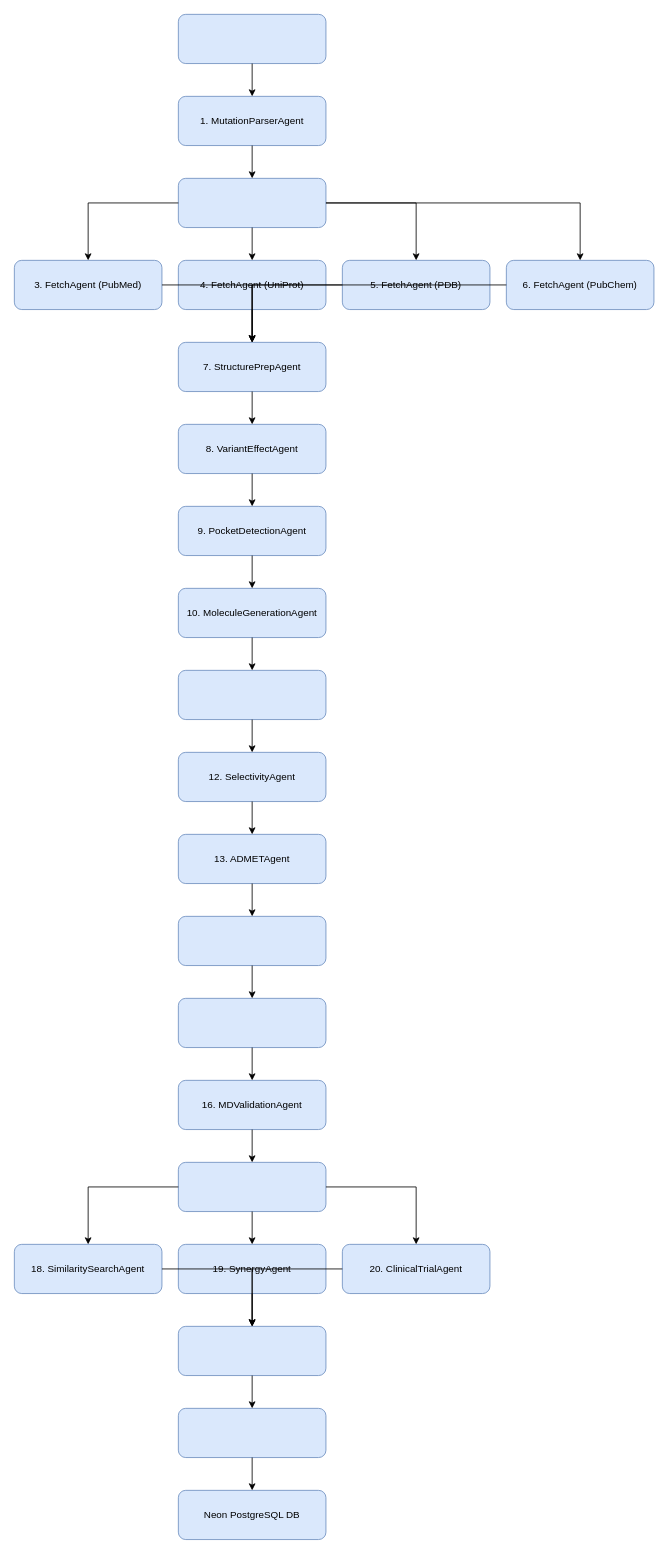
Image size: 668x1554. Some labels were removed from this diagram. The shapes that lost their labels are listed below. From the top down, each one's centre as x and y in pixels, then its label:
At (252,39): "User Query: EGFR T790M".
At (252,203): "2. PlannerAgent".
At (252,695): "11. DockingAgent".
At (252,941): "14. LeadOptimizationAgent".
At (252,1023): "15. GNNAffinityAgent".
At (252,1187): "17. ResistanceAgent".
At (252,1351): "21. SynthesisAgent".
At (252,1433): "22. ReportAgent".
